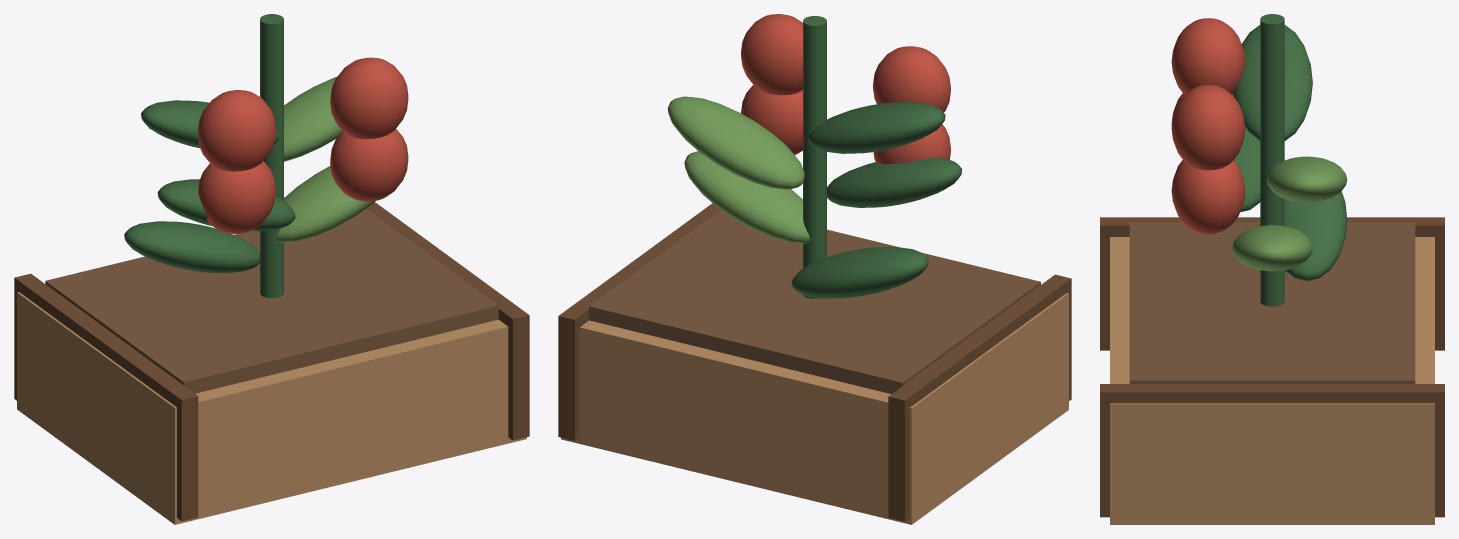
The model's file is plant-strawberry.glb.
The picture shows the model from 3 angles, left to right: view 1: azimuth 30°, elevation 25°; view 2: azimuth 150°, elevation 25°; view 3: azimuth 270°, elevation 25°; orthographic projection. The views are drawn at different scales.
Parts seen in each view (by area): view 1: wood box, soil box, red sphere (×4), trim box (×2), leaf sphere (×3), lightLeaf sphere (×2), leaf cylinder; view 2: wood box, soil box, leaf sphere (×3), trim box (×2), red sphere (×4), lightLeaf sphere (×2), leaf cylinder; view 3: wood box, soil box, red sphere (×3), trim box (×2), leaf sphere (×3), lightLeaf sphere (×2), leaf cylinder.
Part boxes in pixels (<box>): wood box: <box>17,292,526,524</box>; soil box: <box>45,208,498,393</box>; red sphere (×4): <box>197,57,408,233</box>; trim box (×2): <box>14,202,529,521</box>; leaf sphere (×3): <box>124,100,295,273</box>; lightLeaf sphere (×2): <box>277,77,375,242</box>; leaf cylinder: <box>260,14,283,298</box>; wood box: <box>561,293,1068,524</box>; soil box: <box>589,210,1040,393</box>; leaf sphere (×3): <box>791,102,962,298</box>; trim box (×2): <box>558,203,1071,521</box>; red sphere (×4): <box>741,14,950,164</box>; lightLeaf sphere (×2): <box>667,96,809,243</box>; leaf cylinder: <box>803,16,826,298</box>; wood box: <box>1110,237,1434,524</box>; soil box: <box>1129,222,1415,383</box>; red sphere (×3): <box>1171,18,1245,234</box>; trim box (×2): <box>1100,217,1444,517</box>; leaf sphere (×3): <box>1233,25,1347,281</box>; lightLeaf sphere (×2): <box>1232,156,1347,271</box>; leaf cylinder: <box>1260,14,1284,306</box>.
Bounding box in the file's own units: 0.85 × 0.935 × 0.7.
